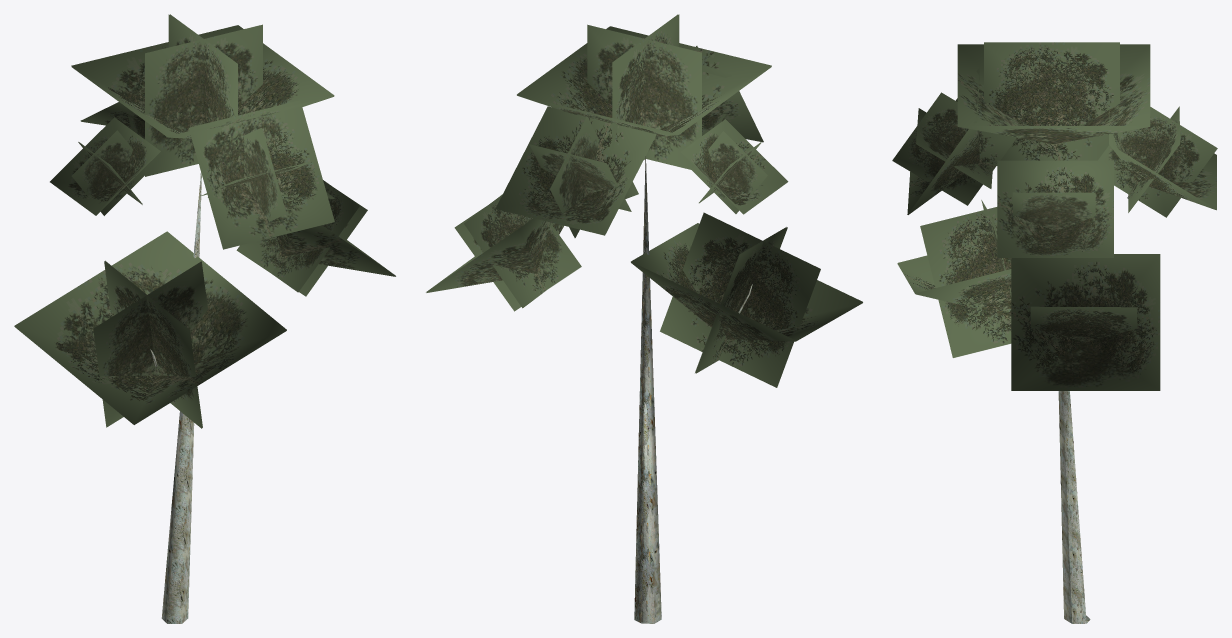
The model's file is ever_eucalyptus_med_l4.fbx.
3 views of the same model, side by side, from view 1: azimuth 30°, elevation 25°; view 2: azimuth 150°, elevation 25°; view 3: azimuth 270°, elevation 25° (orthographic). The views are drawn at different scales.
Parts seen in each view (by area): view 1: mesh_node; view 2: mesh_node; view 3: mesh_node.
Part boxes in pixels (x1,y1,x2,y2): mesh_node: (14, 14, 395, 623); mesh_node: (426, 14, 862, 623); mesh_node: (892, 42, 1217, 623).
Size of the model in its own units: 10.61 by 16.82 by 8.5.
